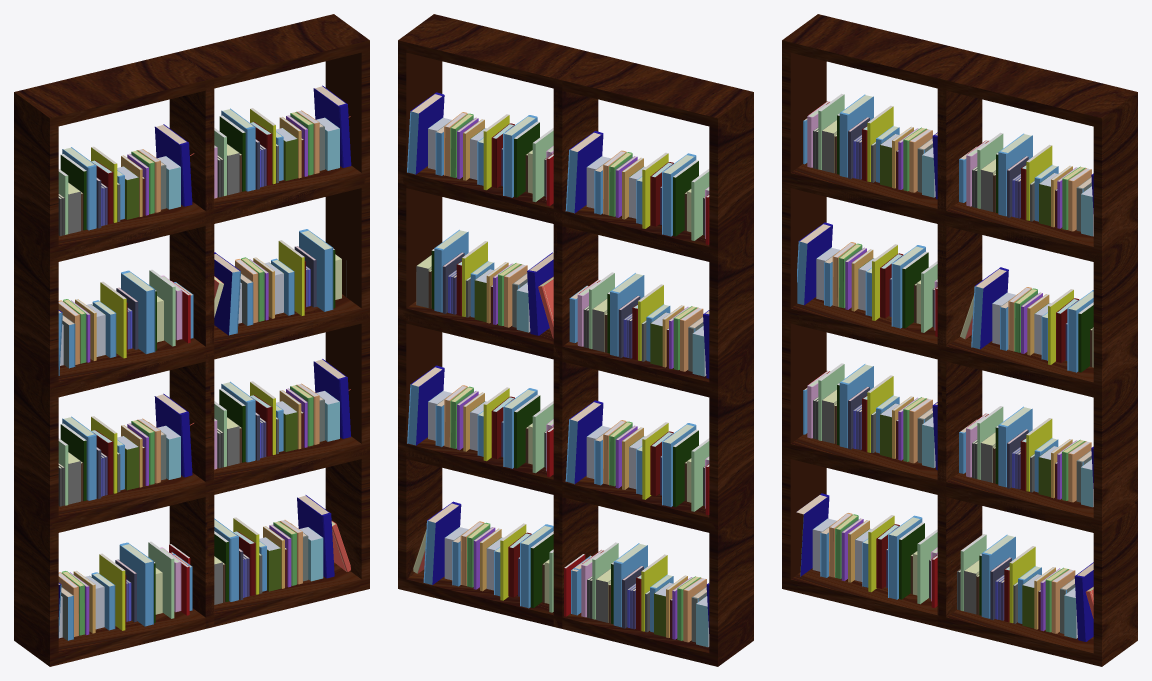
Rendered from shelf.glb.
3 renders of one model, left to right at view 1: azimuth 30°, elevation 25°; view 2: azimuth 150°, elevation 25°; view 3: azimuth 330°, elevation 25°, orthographic.
Visible parts, largest first — view 1: Cube.007, Cube.003, Cube.002, Cube, Cube.004, Cube.006, Cube.001, Cube.005, Cube.011, Cube.008, Cube.013, Cube.015 (+4 smaller); view 2: Cube.007, Cube.003, Cube.002, Cube.004, Cube, Cube.005, Cube.009, Cube.011, Cube.008, Cube.006, Cube.013, Cube.015 (+4 smaller); view 3: Cube.003, Cube.007, Cube.006, Cube, Cube.001, Cube.002, Cube.004, Cube.005, Cube.014, Cube.009, Cube.010, Cube.008 (+4 smaller).
Boxes of the visible parts, x1,y1,x2,y2 form: Cube.007: (14, 52, 214, 259); Cube.003: (169, 14, 369, 220); Cube.002: (169, 177, 369, 357); Cube: (169, 446, 369, 628); Cube.004: (14, 487, 214, 666); Cube.006: (14, 214, 214, 395); Cube.001: (169, 311, 369, 492); Cube.005: (14, 349, 214, 531); Cube.011: (214, 85, 351, 198); Cube.008: (58, 393, 193, 506); Cube.013: (58, 124, 194, 236); Cube.015: (214, 359, 350, 469); Cube.007: (553, 52, 753, 259); Cube.003: (398, 14, 598, 221); Cube.002: (398, 177, 598, 357); Cube.004: (553, 487, 753, 666); Cube: (398, 446, 598, 628); Cube.005: (553, 349, 753, 531); Cube.009: (413, 501, 590, 616); Cube.011: (407, 92, 553, 206); Cube.008: (565, 400, 709, 515); Cube.006: (553, 214, 753, 394); Cube.013: (565, 131, 709, 244); Cube.015: (407, 365, 553, 477); Cube.003: (937, 52, 1137, 259); Cube.007: (782, 14, 982, 216); Cube.006: (782, 182, 982, 353); Cube: (937, 485, 1137, 666); Cube.001: (937, 349, 1137, 531); Cube.002: (937, 214, 1137, 395); Cube.004: (782, 446, 982, 628); Cube.005: (782, 311, 982, 492); Cube.014: (797, 222, 937, 336); Cube.009: (957, 534, 1093, 641); Cube.010: (796, 493, 937, 607); Cube.008: (803, 363, 937, 470).
Size of the model in its own units: 1.07 by 1.75 by 0.2083.
51 materials, 1 textured.
